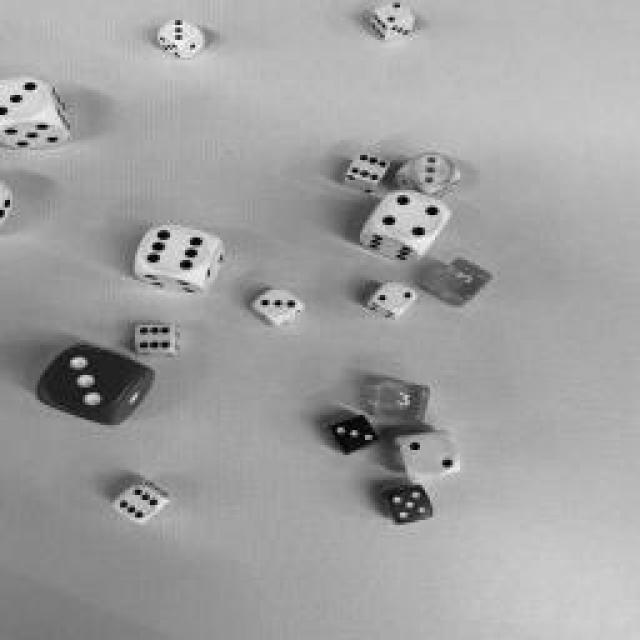dice_2: (401, 431, 459, 474), (375, 281, 415, 309), (376, 3, 414, 25)
dice_3: (40, 346, 138, 414), (0, 79, 48, 121), (438, 259, 490, 296), (378, 381, 428, 419), (405, 154, 455, 191), (332, 415, 378, 450), (255, 289, 300, 319), (161, 20, 199, 42)
dice_4: (371, 191, 449, 244)
dice_5: (388, 488, 432, 522)
dice_6: (138, 225, 214, 275), (115, 486, 165, 524), (349, 152, 391, 182), (136, 324, 174, 351)
